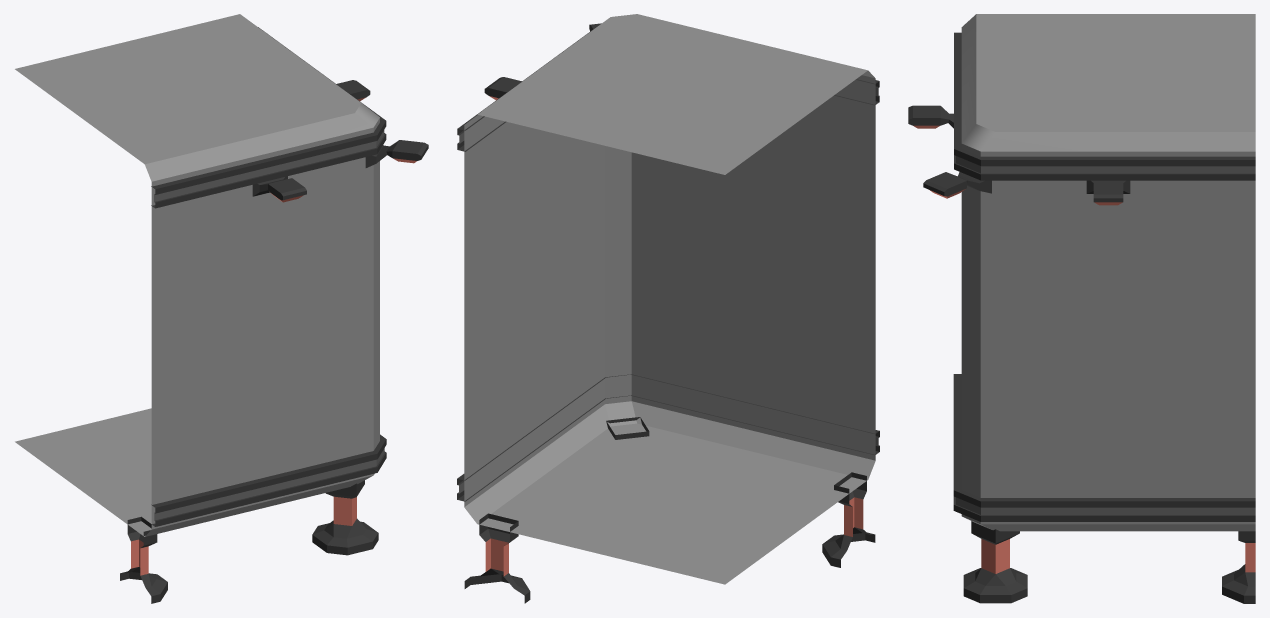
The model's file is Building_Corner.fbx.
3 renders of one model, left to right at view 1: azimuth 30°, elevation 25°; view 2: azimuth 150°, elevation 25°; view 3: azimuth 270°, elevation 25°, orthographic. The views are drawn at different scales.
Parts seen in each view (by area): view 1: Building_Corner; view 2: Building_Corner; view 3: Building_Corner.
Part boxes in pixels (x1,y1,x2,y2): Building_Corner: (15,14,428,603); Building_Corner: (457,14,879,603); Building_Corner: (908,14,1255,603).
Bounding box in the file's own units: 236 × 350 × 236.
